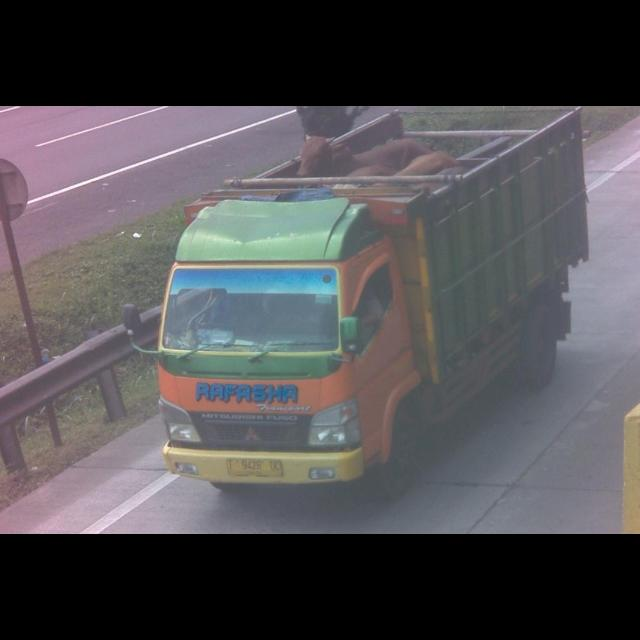plate: (223, 458, 285, 482)
